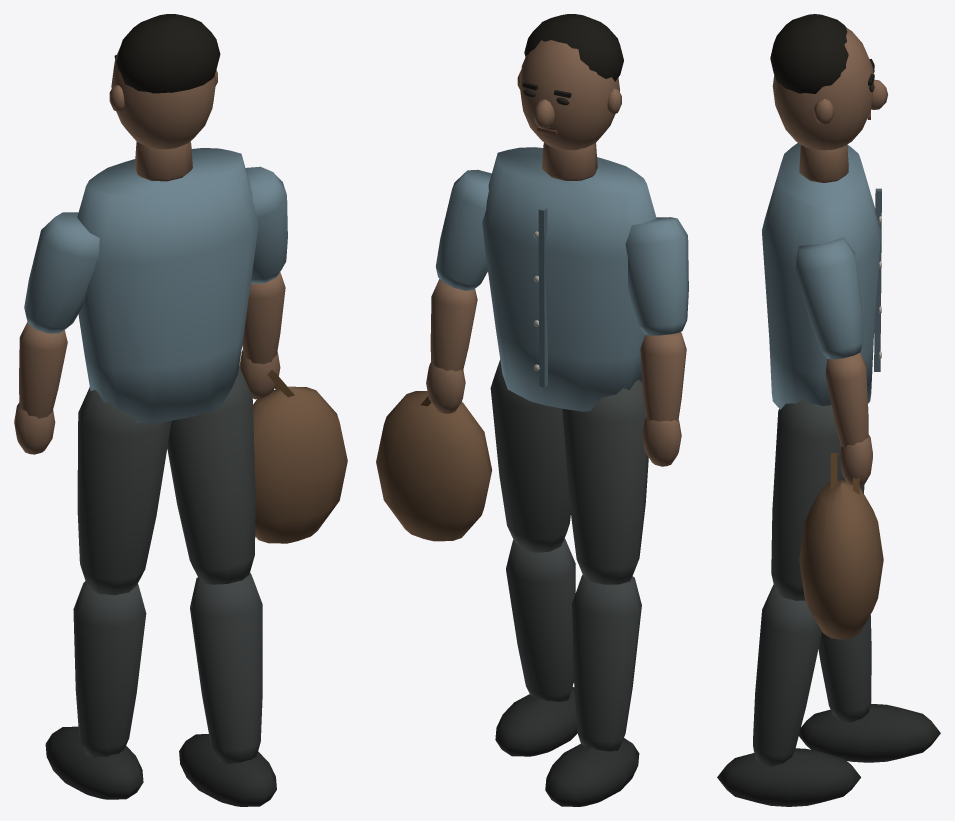
File: passenger_man.glb
The picture shows the model from 3 angles, left to right: view 1: azimuth 30°, elevation 25°; view 2: azimuth 150°, elevation 25°; view 3: azimuth 270°, elevation 25°; orthographic projection. The views are drawn at different scales.
Parts seen in each view (by area): view 1: passenger_man; view 2: passenger_man; view 3: passenger_man.
Part boxes in pixels (x1=…): passenger_man: x1=14, y1=14, x2=347, y2=806; passenger_man: x1=376, y1=14, x2=688, y2=806; passenger_man: x1=717, y1=14, x2=940, y2=806.
Bounding box in the file's own units: 0.728 × 1.69 × 0.45.
